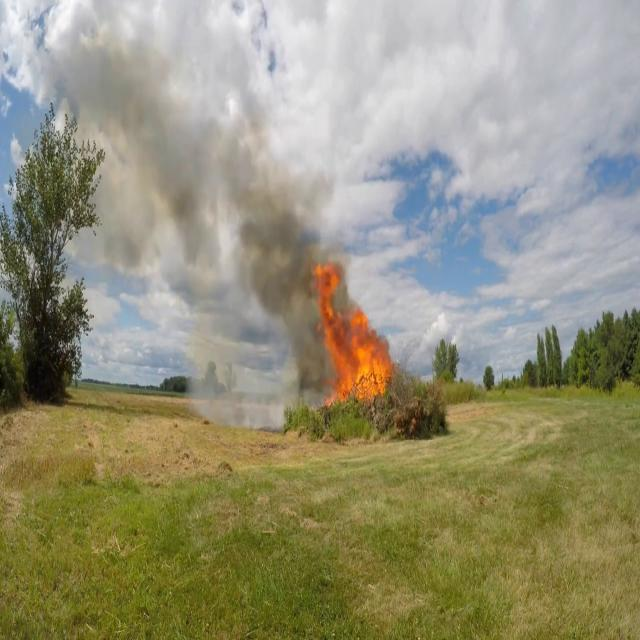Fire: (310, 260, 398, 406)
Smoke: (100, 34, 328, 388)
